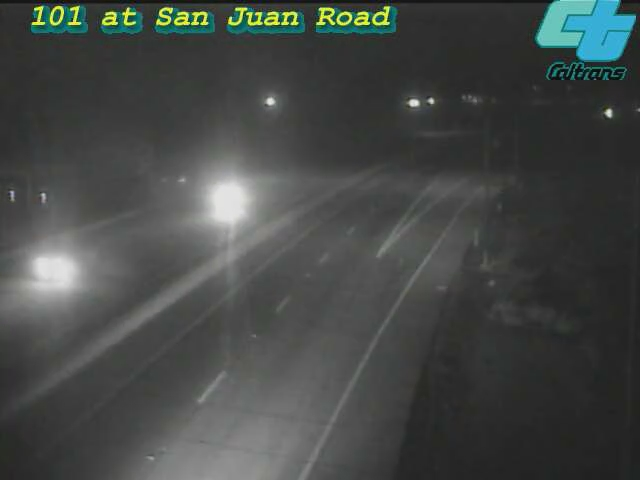vehicle: (12, 229, 92, 309), (189, 162, 269, 242), (582, 87, 632, 137)
